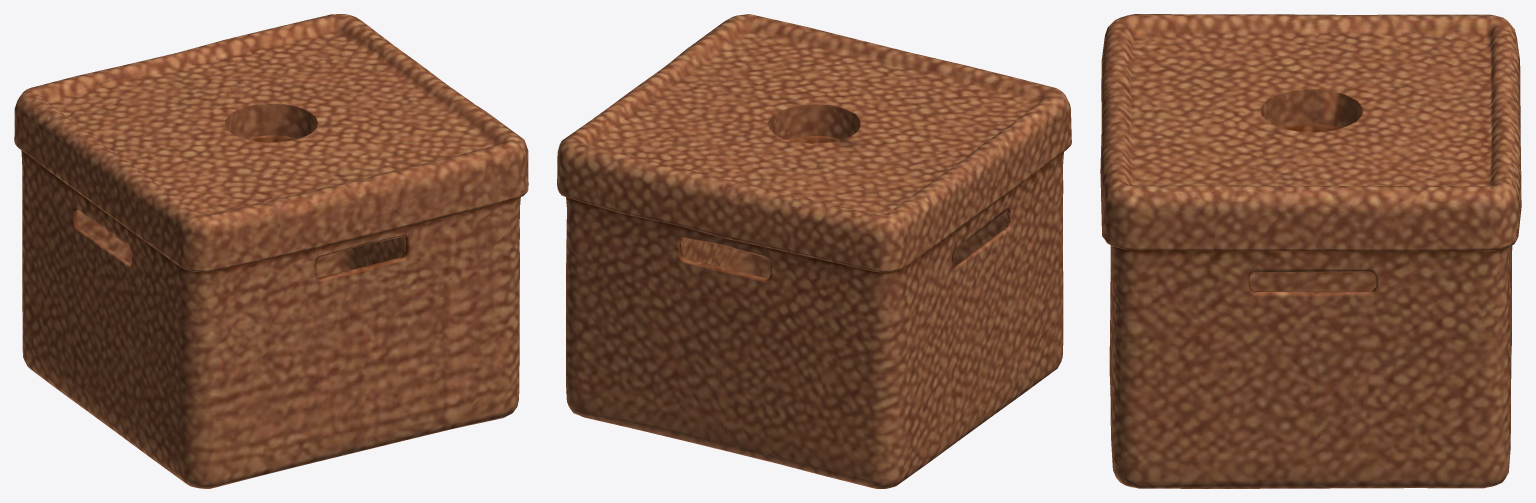
The model's file is wicker_storage_box.glb.
3 views of the same model, side by side, from view 1: azimuth 30°, elevation 25°; view 2: azimuth 150°, elevation 25°; view 3: azimuth 270°, elevation 25° (orthographic). The views are drawn at different scales.
Parts seen in each view (by area): view 1: geometry_0; view 2: geometry_0; view 3: geometry_0.
Boxes of the visible parts, x1,y1,x2,y2 form: geometry_0: [14, 14, 528, 488]; geometry_0: [557, 14, 1071, 488]; geometry_0: [1100, 14, 1521, 488].
Bounding box in the file's own units: 1 × 0.771 × 0.9624.
1 material, 1 textured.
